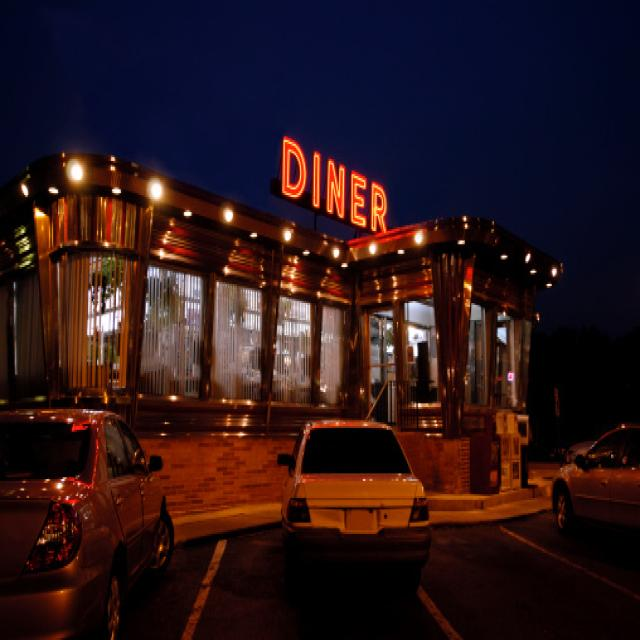Car: (3, 409, 176, 639), (276, 413, 433, 587), (550, 426, 640, 544)
